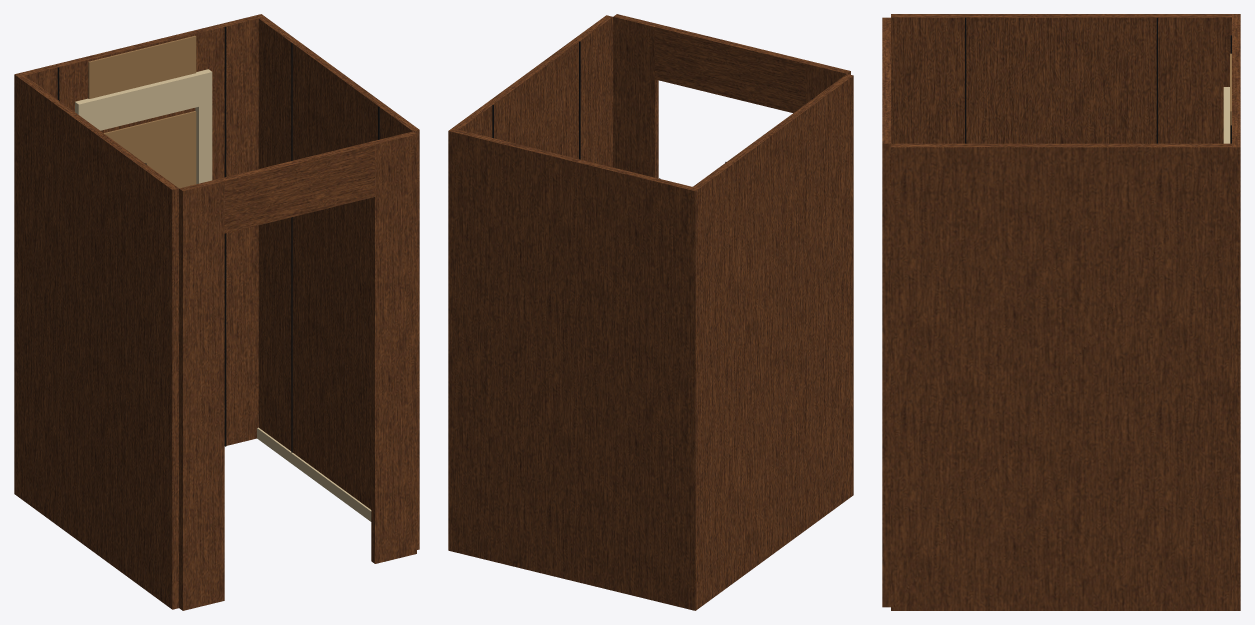
The model's file is wall_walnut.glb.
3 renders of one model, left to right at view 1: azimuth 30°, elevation 25°; view 2: azimuth 150°, elevation 25°; view 3: azimuth 270°, elevation 25°, orthographic. The views are drawn at different scales.
Parts seen in each view (by area): view 1: Wall_Left, Wall_Right, Wall_Back, Front_Return_L, Front_Return_R, Front_Header, Back_Header, Back_Mirror_Top, Back_Recess, Skirting_R, Back_Post_R, Back_Seam_R (+1 smaller); view 2: Wall_Back, Wall_Left, Wall_Right, Front_Header, Front_Return_R, Front_Return_L; view 3: Wall_Right, Wall_Left, Wall_Back, Front_Return_R, Front_Header.
Boxes of the visible parts, x1=… form: Wall_Left: x1=18, y1=75, x2=178, y2=609; Wall_Right: x1=258, y1=17, x2=419, y2=549; Wall_Back: x1=14, y1=14, x2=264, y2=496; Front_Return_L: x1=179, y1=178, x2=224, y2=610; Front_Return_R: x1=371, y1=131, x2=416, y2=563; Front_Header: x1=221, y1=141, x2=374, y2=233; Back_Header: x1=75, y1=69, x2=212, y2=130; Back_Mirror_Top: x1=88, y1=36, x2=196, y2=98; Back_Recess: x1=104, y1=111, x2=196, y2=188; Skirting_R: x1=257, y1=427, x2=371, y2=521; Back_Post_R: x1=195, y1=103, x2=212, y2=184; Back_Seam_R: x1=224, y1=26, x2=226, y2=446; Wall_Back: x1=448, y1=128, x2=699, y2=610; Wall_Left: x1=693, y1=74, x2=853, y2=607; Wall_Right: x1=452, y1=15, x2=612, y2=167; Front_Header: x1=655, y1=24, x2=808, y2=112; Front_Return_R: x1=613, y1=14, x2=658, y2=178; Front_Return_L: x1=805, y1=61, x2=850, y2=103; Wall_Right: x1=891, y1=143, x2=1231, y2=610; Wall_Left: x1=891, y1=14, x2=1231, y2=143; Wall_Back: x1=1232, y1=14, x2=1240, y2=610; Front_Return_R: x1=882, y1=121, x2=890, y2=607; Front_Header: x1=882, y1=40, x2=890, y2=121.
Bounding box in the file's own units: 1.48 × 2.4 × 1.68.
Materials: 4 (1 with a texture image).
